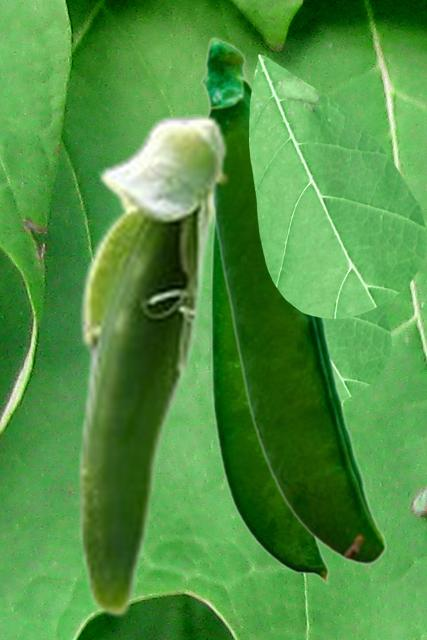pea: (200, 35, 385, 564), (76, 114, 228, 617), (211, 227, 328, 583)
